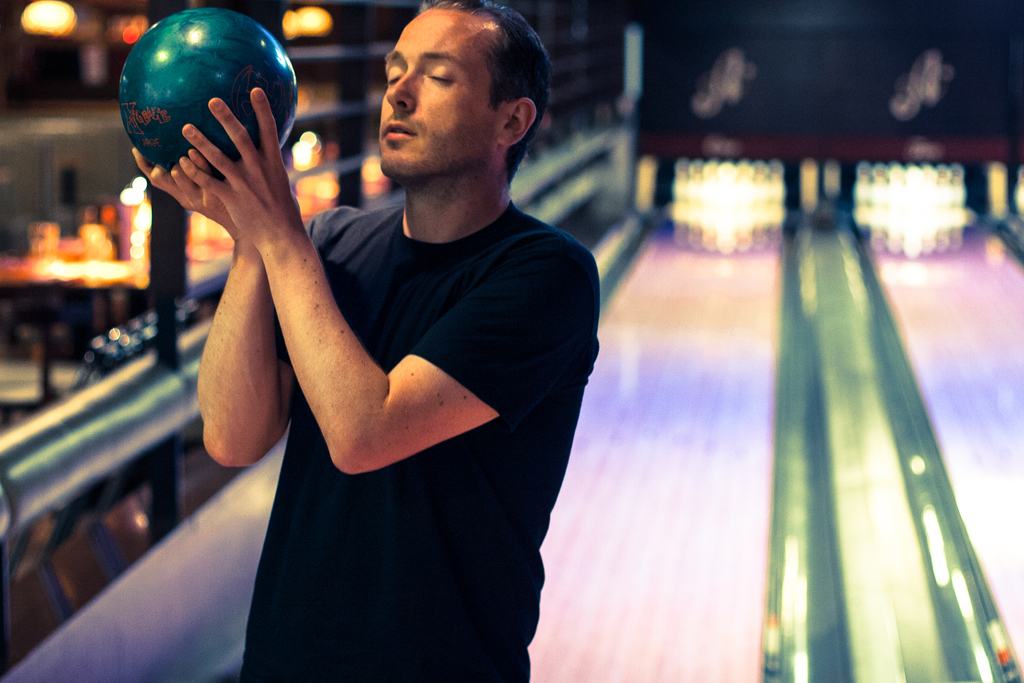Ball: (117, 8, 302, 184)
